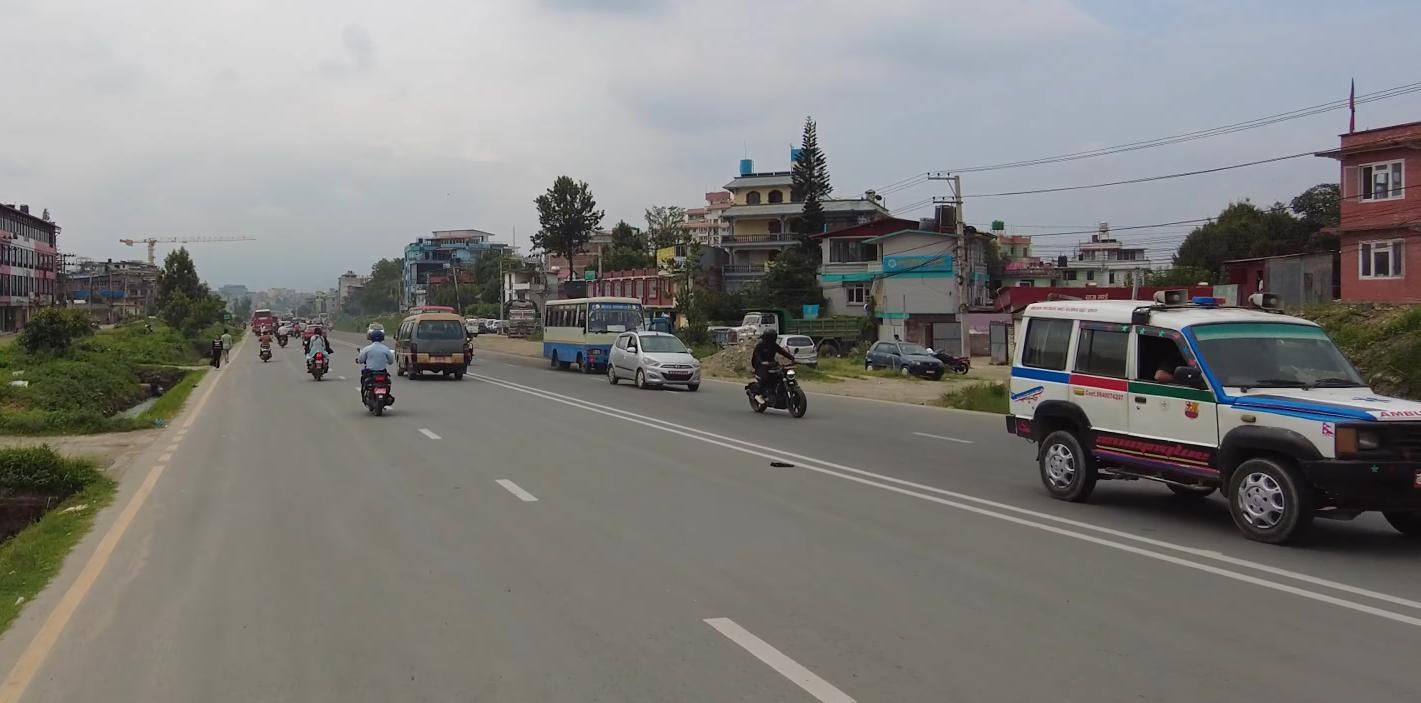ambulance: (1002, 273, 1421, 560)
bike: (738, 352, 811, 419)
bus: (540, 293, 650, 378)
car: (601, 328, 708, 395), (866, 339, 948, 384)
truck: (503, 297, 540, 344)
van: (391, 310, 472, 382)
